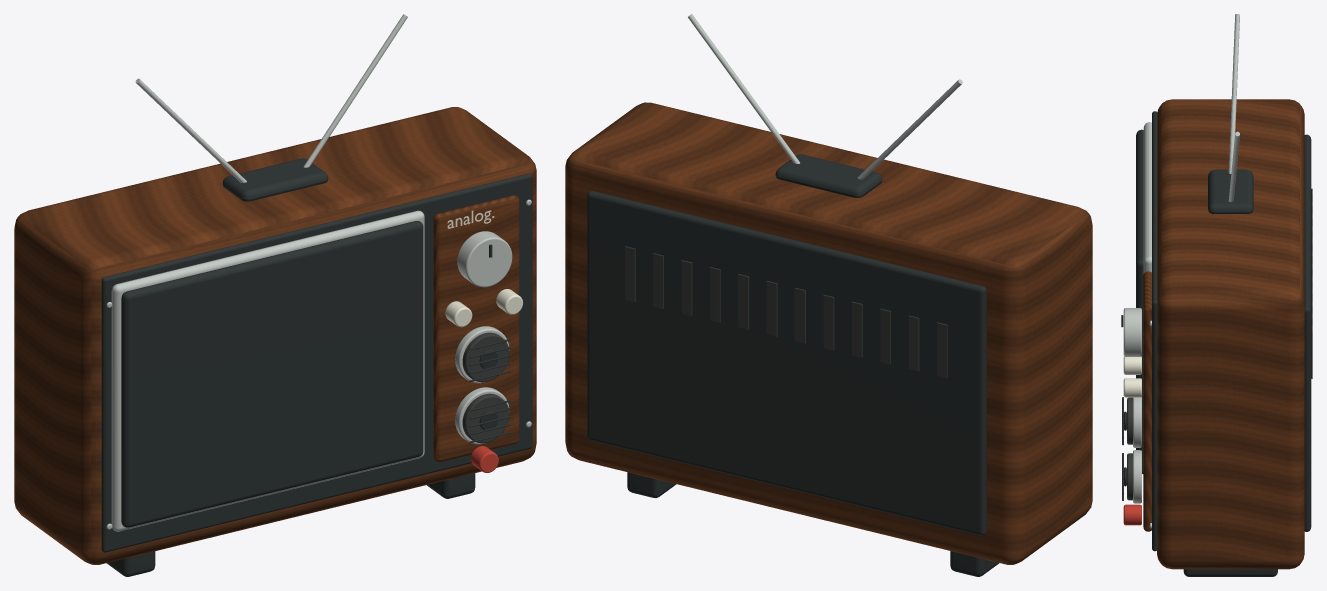
The model's file is wooden-tv.glb.
3 renders of one model, left to right at view 1: azimuth 30°, elevation 25°; view 2: azimuth 150°, elevation 25°; view 3: azimuth 270°, elevation 25°, orthographic. The views are drawn at different scales.
Parts seen in each view (by area): view 1: Screen_Bezel, Cabinet_Walnut, Front_Inset, Control_Panel, Screen_Trim, Antenna_Base, Button_Random, Speaker_Cone_0, Speaker_Cone_1, Antenna_Rod.001, Antenna_Rod, Foot_1 (+3 smaller); view 2: Rear_Cover, Cabinet_Walnut, Antenna_Base, Antenna_Rod.001, Antenna_Rod, Foot_-1, Foot_1; view 3: Cabinet_Walnut, Rear_Cover, Front_Inset, Control_Panel, Antenna_Base, Screen_Bezel, Screen_Trim, Button_Random, Antenna_Rod, Foot_1, Speaker_Rim_1, Speaker_Rim_0 (+6 smaller).
Boxes of the visible parts, x1,y1,x2,y2 form: Screen_Bezel: (121, 221, 423, 527); Cabinet_Walnut: (14, 107, 536, 564); Front_Inset: (101, 173, 532, 552); Control_Panel: (433, 195, 519, 462); Screen_Trim: (111, 210, 424, 531); Antenna_Base: (222, 158, 328, 201); Button_Random: (457, 231, 512, 287); Speaker_Cone_0: (462, 332, 509, 382); Speaker_Cone_1: (462, 393, 509, 443); Antenna_Rod.001: (303, 14, 407, 167); Antenna_Rod: (135, 78, 246, 182); Foot_1: (426, 473, 475, 498); Rear_Cover: (587, 191, 986, 535); Cabinet_Walnut: (565, 102, 1092, 564); Antenna_Base: (775, 154, 882, 197); Antenna_Rod.001: (688, 14, 799, 163); Antenna_Rod: (857, 79, 962, 179); Foot_-1: (950, 551, 999, 576); Foot_1: (627, 472, 676, 497); Cabinet_Walnut: (1157, 99, 1304, 569); Rear_Cover: (1304, 134, 1311, 531); Front_Inset: (1152, 111, 1157, 551); Control_Panel: (1143, 271, 1151, 531); Antenna_Base: (1208, 169, 1253, 213); Screen_Bezel: (1136, 129, 1143, 473); Screen_Trim: (1143, 122, 1151, 273); Button_Random: (1123, 308, 1141, 356); Antenna_Rod: (1228, 14, 1239, 173); Foot_1: (1183, 569, 1277, 576); Speaker_Rim_1: (1133, 450, 1141, 503); Speaker_Rim_0: (1133, 397, 1141, 447).
Bounding box in the file's own units: 4.2 × 4.14 × 1.68.
6 materials, 1 textured.
